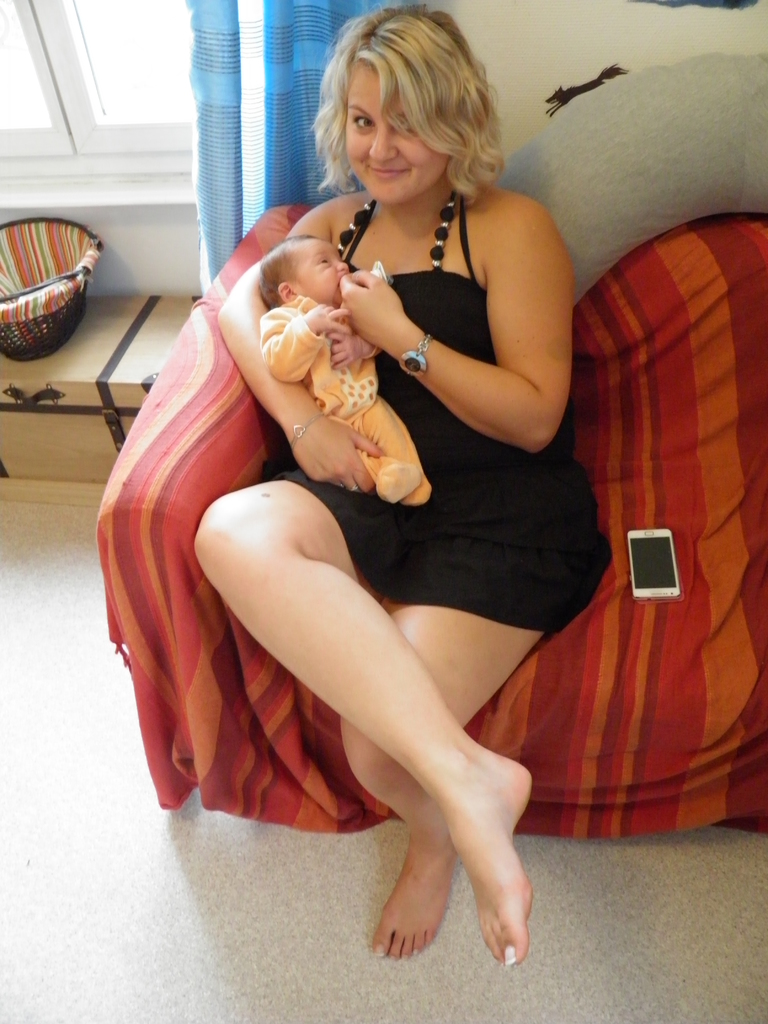Person: (260, 231, 434, 505)
